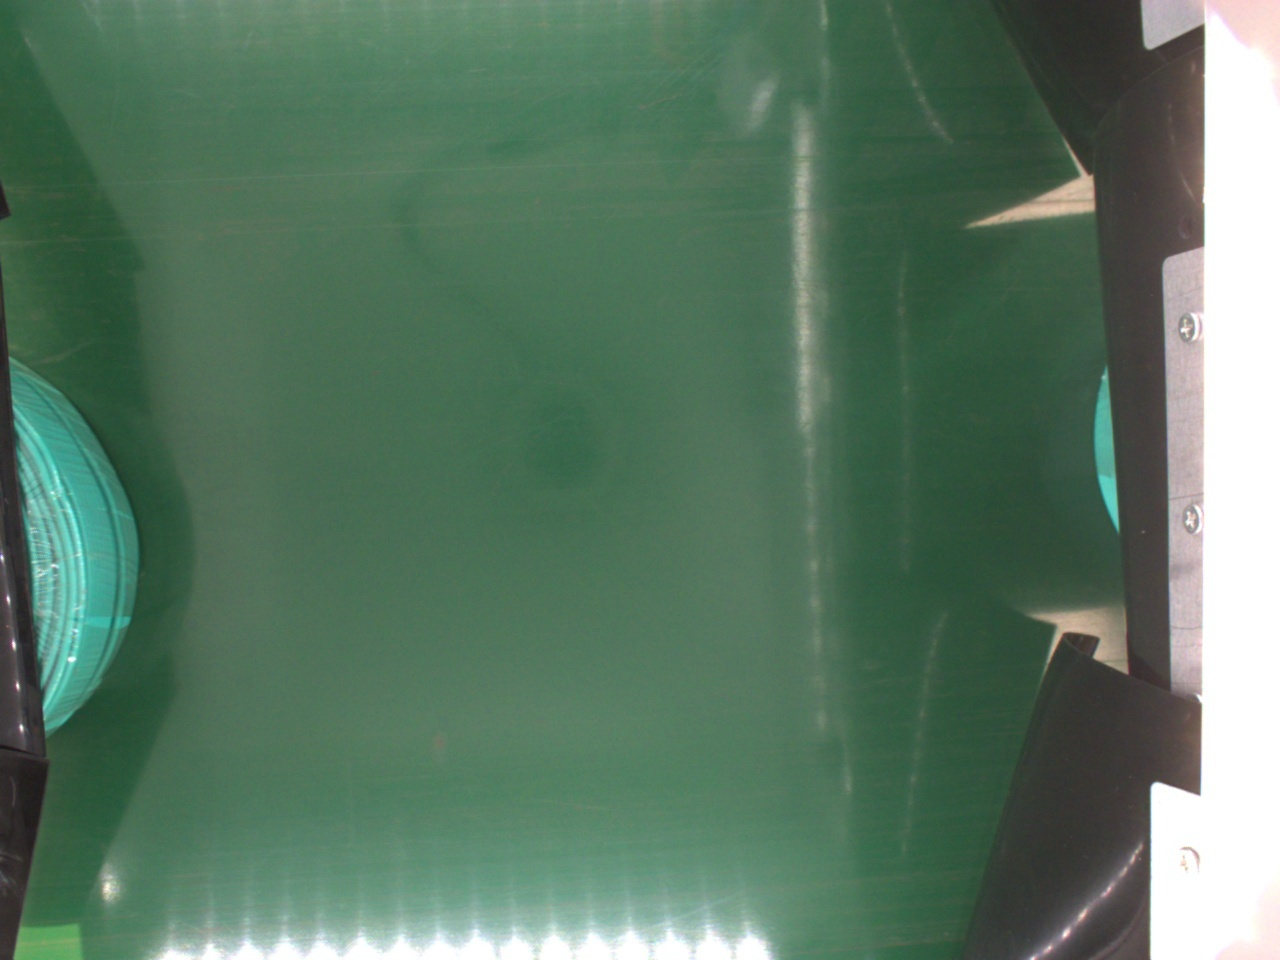green: (8, 360, 139, 734)
